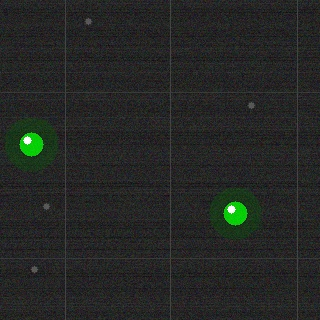green_normal: (17, 130, 45, 158), (221, 199, 249, 227)
